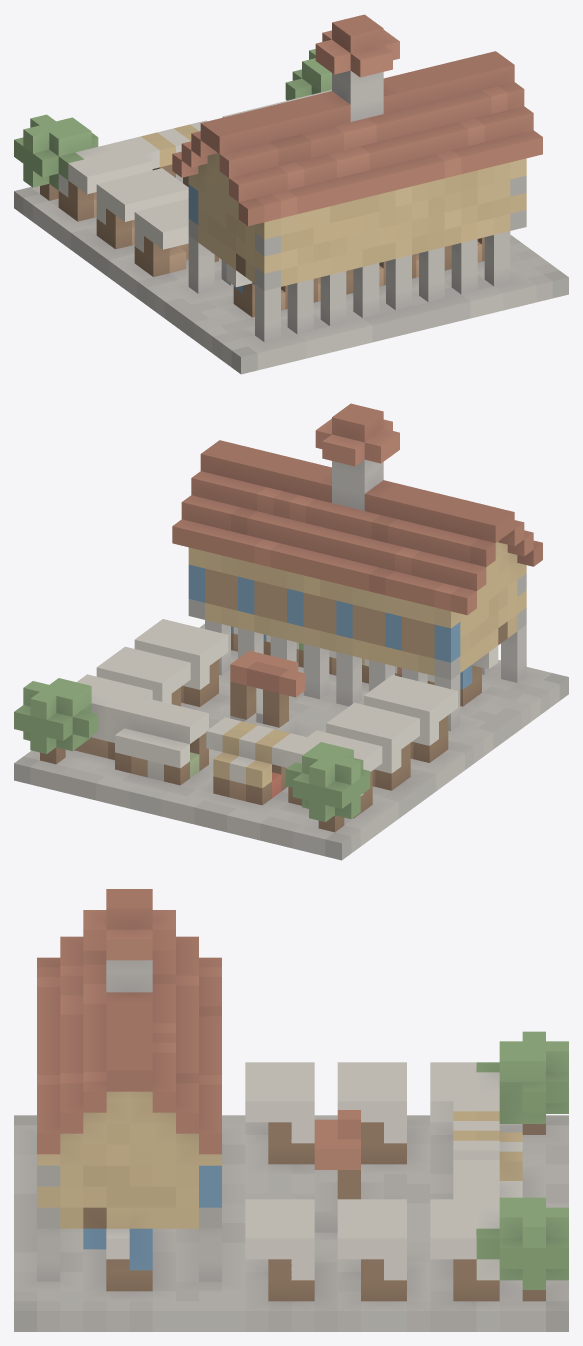
File: market_small.l3.lite.glb
3 views of the same model, one above another, from view 1: azimuth 30°, elevation 25°; view 2: azimuth 150°, elevation 25°; view 3: azimuth 270°, elevation 25° (orthographic). The views are drawn at different scales.
Parts seen in each view (by area): view 1: market_small; view 2: market_small; view 3: market_small.
Part boxes in pixels (box(x1,y1,x2,y2)): market_small: box(14, 14, 568, 374); market_small: box(14, 403, 568, 860); market_small: box(14, 889, 568, 1331).
Size of the model in its own units: 5 by 4 by 6.
